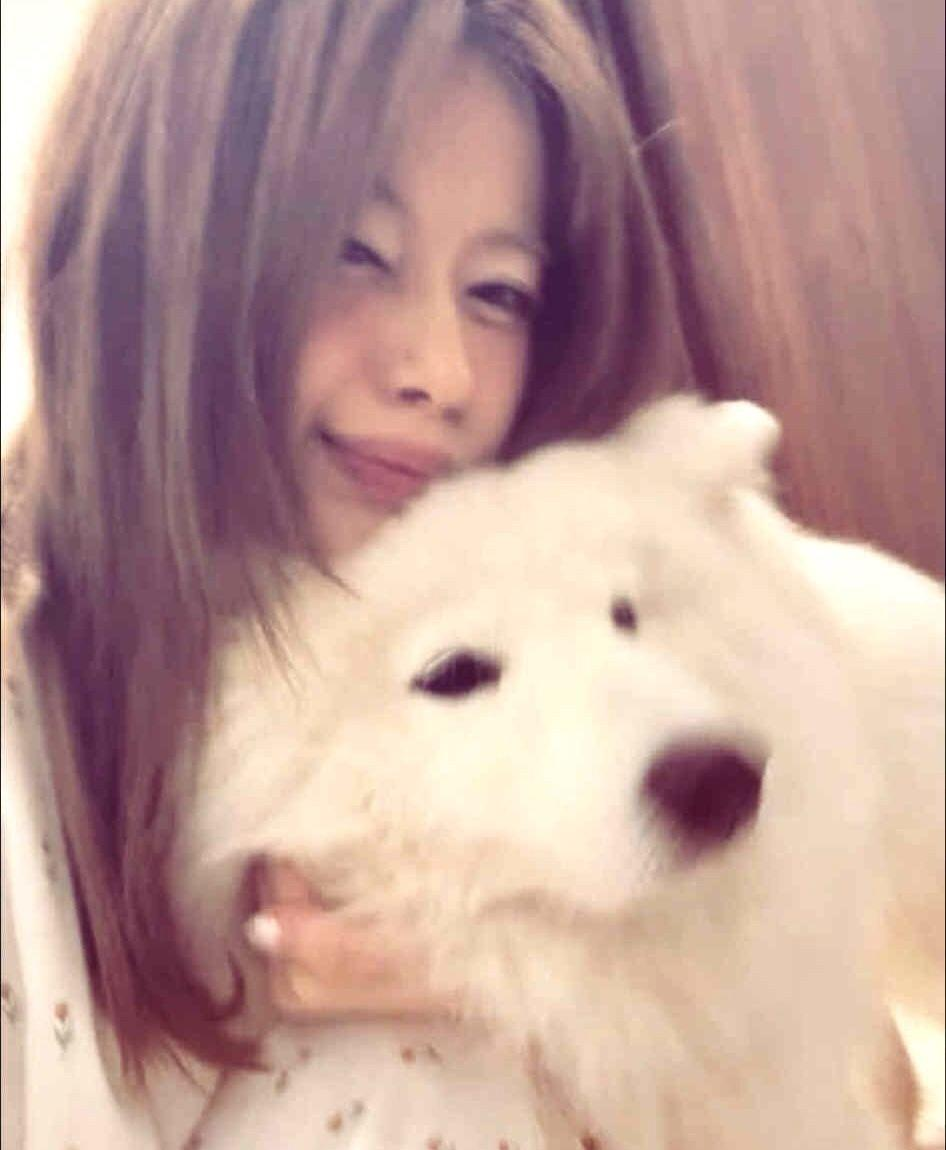non-dog: (1, 5, 690, 1145)
puppy-dog: (154, 388, 946, 1150)
